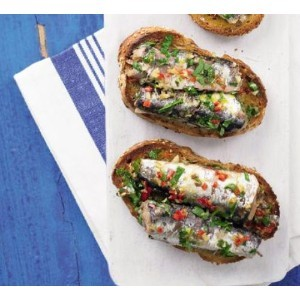sardine_brain food: (129, 166, 268, 249), (125, 57, 263, 126)
